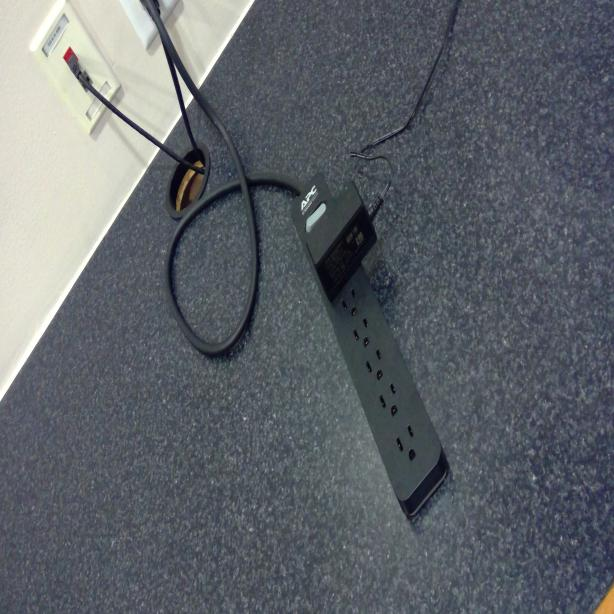typeb: (395, 421, 418, 469), (379, 383, 400, 423), (366, 350, 386, 389), (339, 282, 360, 318), (353, 318, 373, 353)
